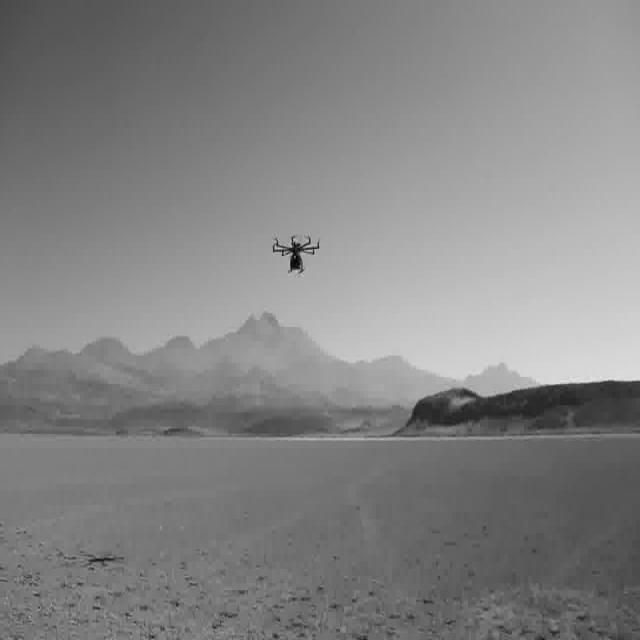drone: (270, 236, 324, 276)
